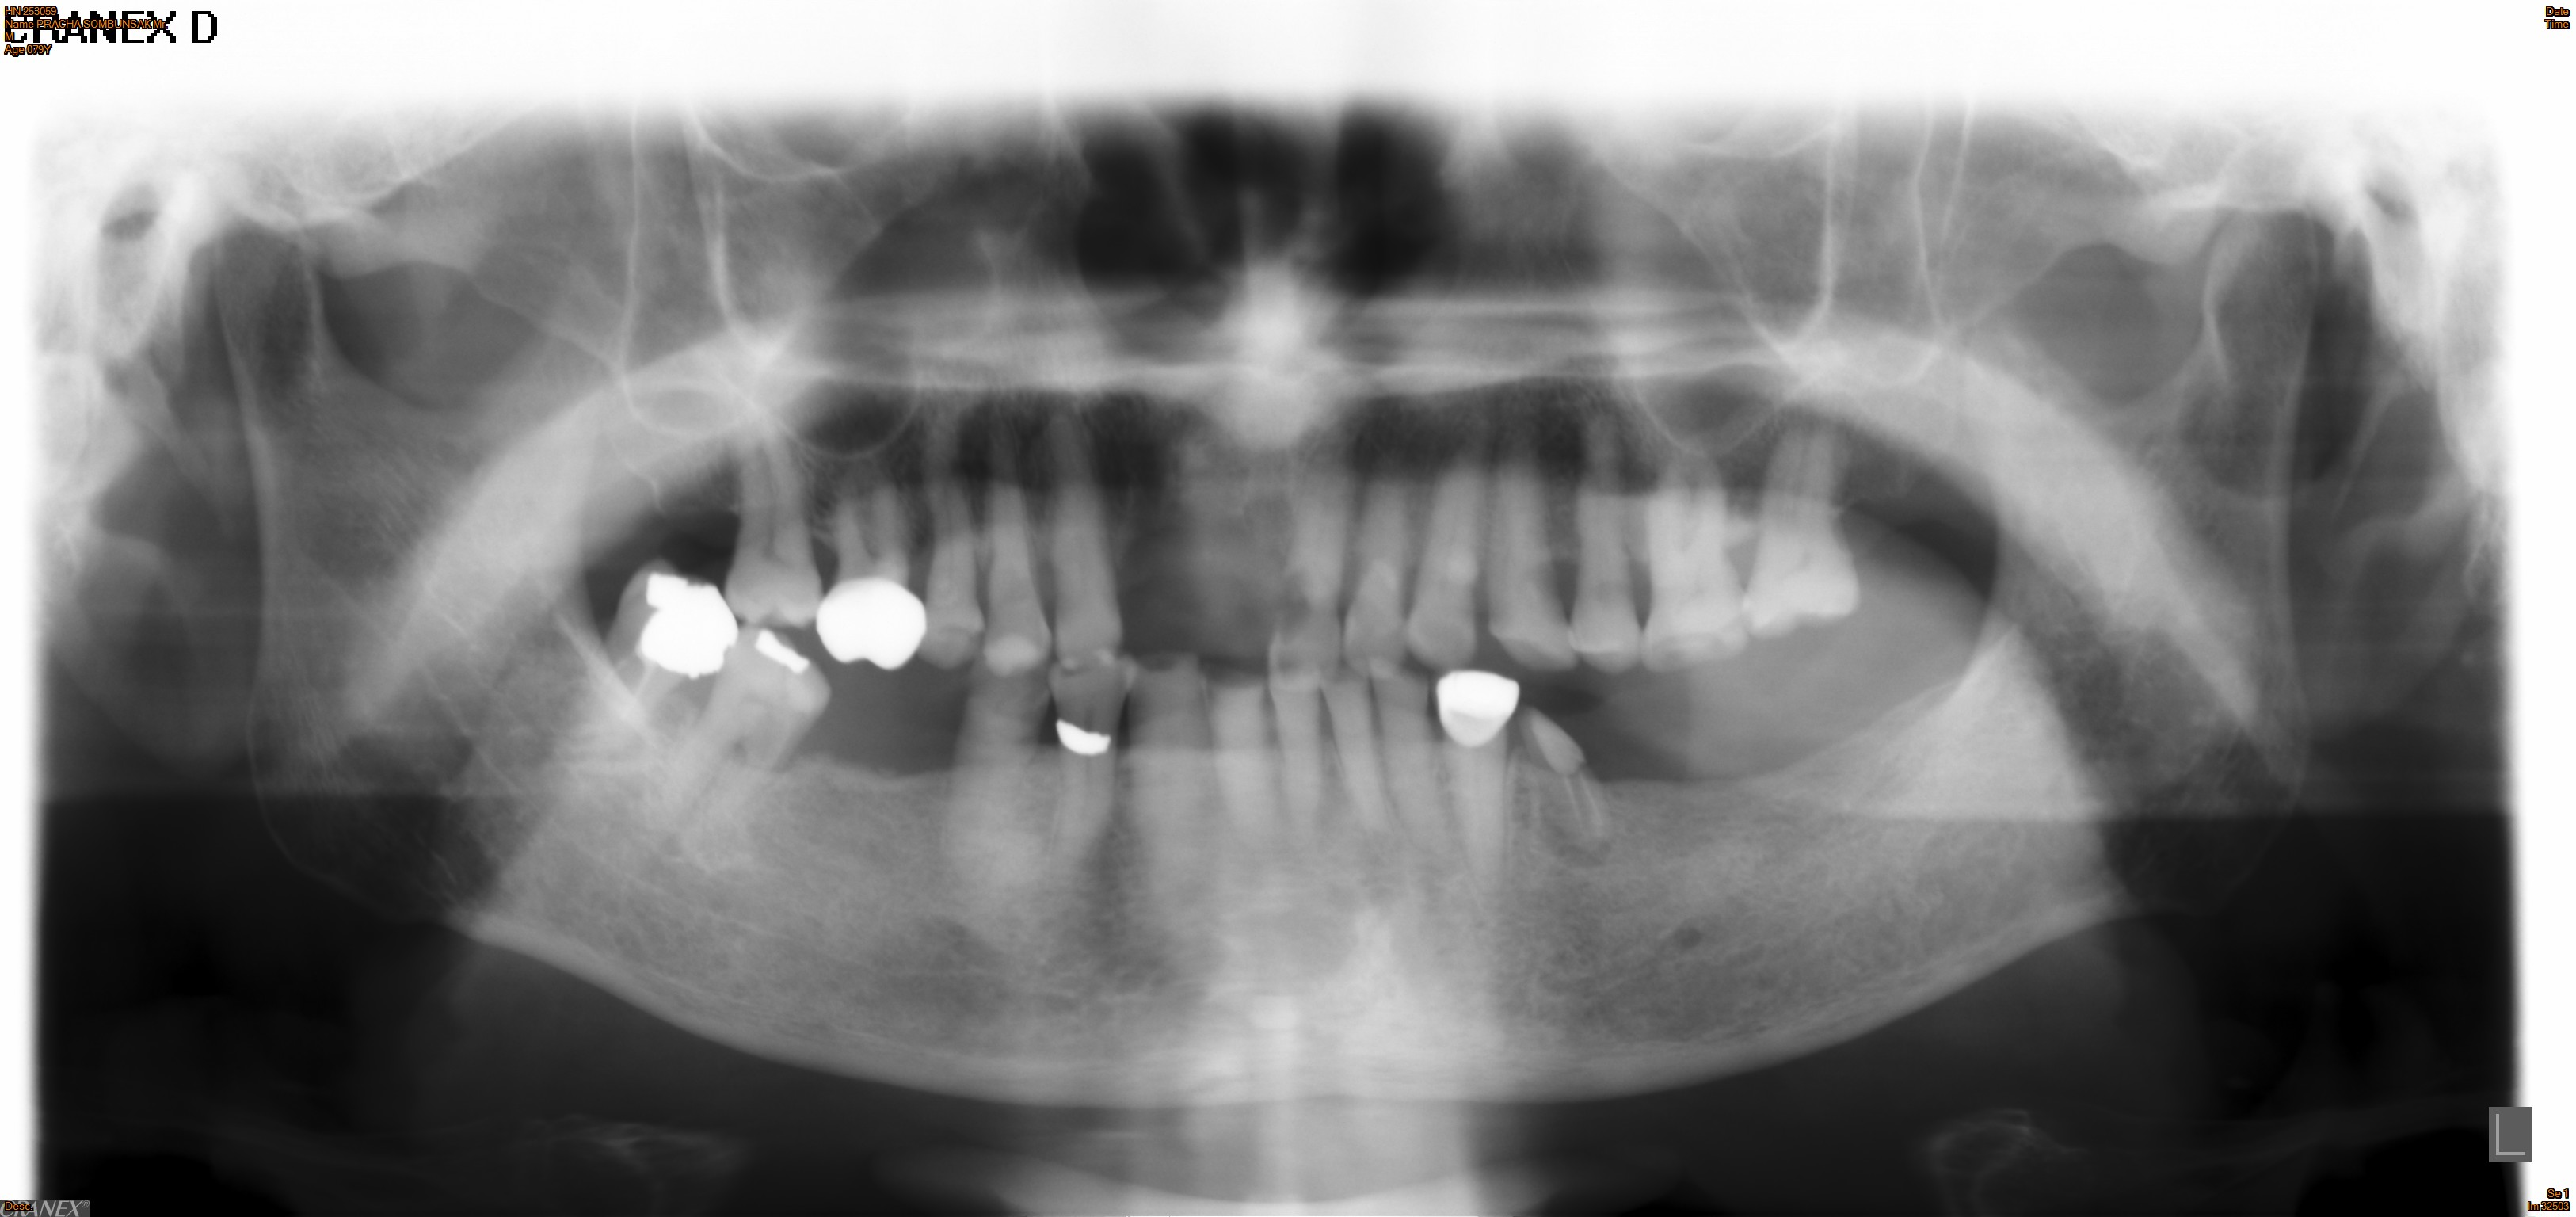periodontitis: (637, 624, 843, 869), (1728, 416, 1870, 644), (803, 445, 933, 677), (713, 406, 833, 632), (1561, 399, 1656, 680), (1631, 442, 1743, 673)
